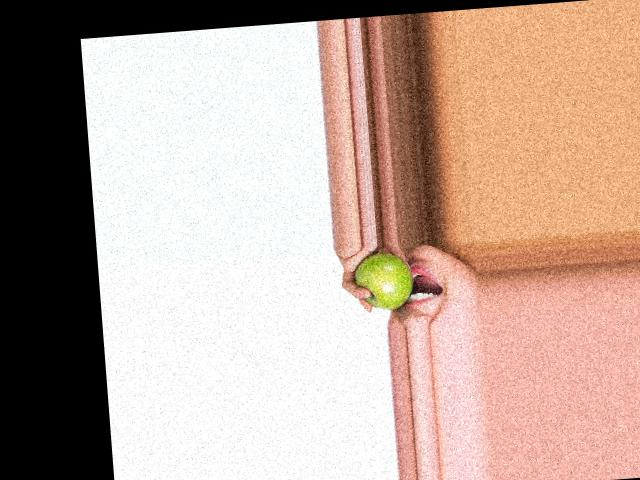apple: (351, 251, 417, 313)
